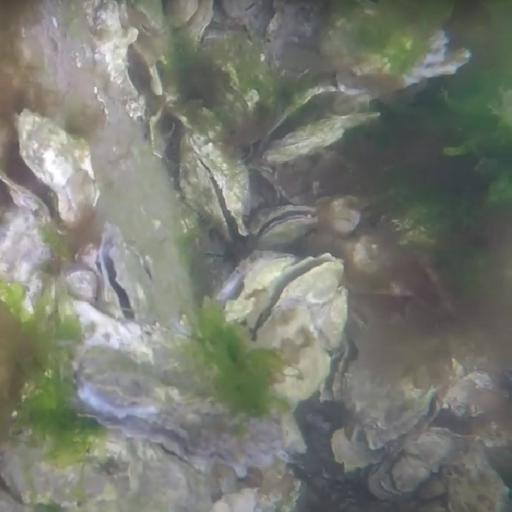Oyster-Closed: (1, 433, 138, 511), (448, 452, 512, 512), (263, 1, 323, 64), (445, 373, 506, 418), (335, 428, 386, 471), (177, 1, 216, 48), (390, 456, 429, 493), (168, 1, 197, 33)
Oyster-Open: (1, 113, 99, 237), (250, 87, 381, 167), (345, 354, 443, 460), (248, 256, 344, 353), (180, 122, 248, 244), (213, 248, 302, 321), (98, 226, 154, 323), (253, 205, 318, 251)
